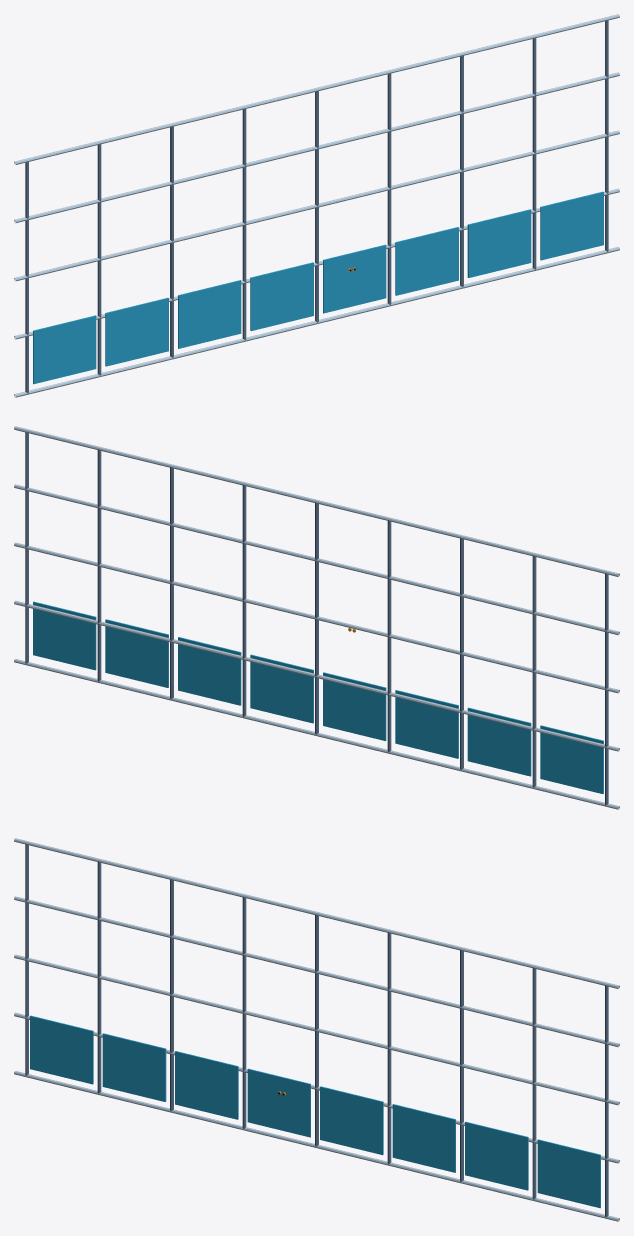
File: 06_L89_EarthAndHabitatObservationWindow.fbx
3 renders of one model, top to bottom at view 1: azimuth 30°, elevation 25°; view 2: azimuth 150°, elevation 25°; view 3: azimuth 330°, elevation 25°, orthographic.
Parts seen in each view (by area): view 1: L87_EarthAndHabitatObservationWindow_Part_0002, L87_EarthAndHabitatObservationWindow_Part_0001, L87_EarthAndHabitatObservationWindow_Part_0000; view 2: L87_EarthAndHabitatObservationWindow_Part_0002, L87_EarthAndHabitatObservationWindow_Part_0001, L87_EarthAndHabitatObservationWindow_Part_0000; view 3: L87_EarthAndHabitatObservationWindow_Part_0002, L87_EarthAndHabitatObservationWindow_Part_0001, L87_EarthAndHabitatObservationWindow_Part_0000.
Part boxes in pixels (<box>): L87_EarthAndHabitatObservationWindow_Part_0002: <box>33,191,603,384</box>; L87_EarthAndHabitatObservationWindow_Part_0001: <box>14,14,619,397</box>; L87_EarthAndHabitatObservationWindow_Part_0000: <box>25,20,608,393</box>; L87_EarthAndHabitatObservationWindow_Part_0002: <box>33,601,603,793</box>; L87_EarthAndHabitatObservationWindow_Part_0001: <box>14,426,619,809</box>; L87_EarthAndHabitatObservationWindow_Part_0000: <box>25,432,608,805</box>; L87_EarthAndHabitatObservationWindow_Part_0002: <box>30,1015,600,1208</box>; L87_EarthAndHabitatObservationWindow_Part_0001: <box>14,838,619,1221</box>; L87_EarthAndHabitatObservationWindow_Part_0000: <box>25,844,608,1217</box>.
Size of the model in its own units: 2500 by 934 by 263.
